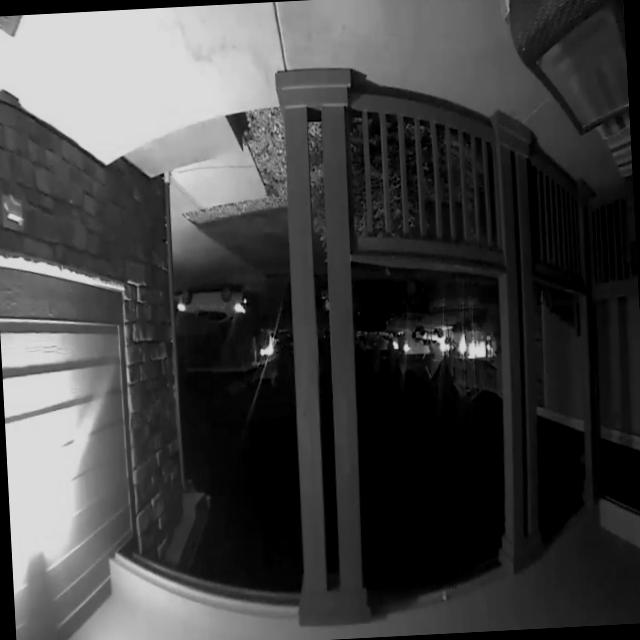car: (300, 256, 444, 342), (166, 264, 254, 340), (407, 324, 454, 354)
